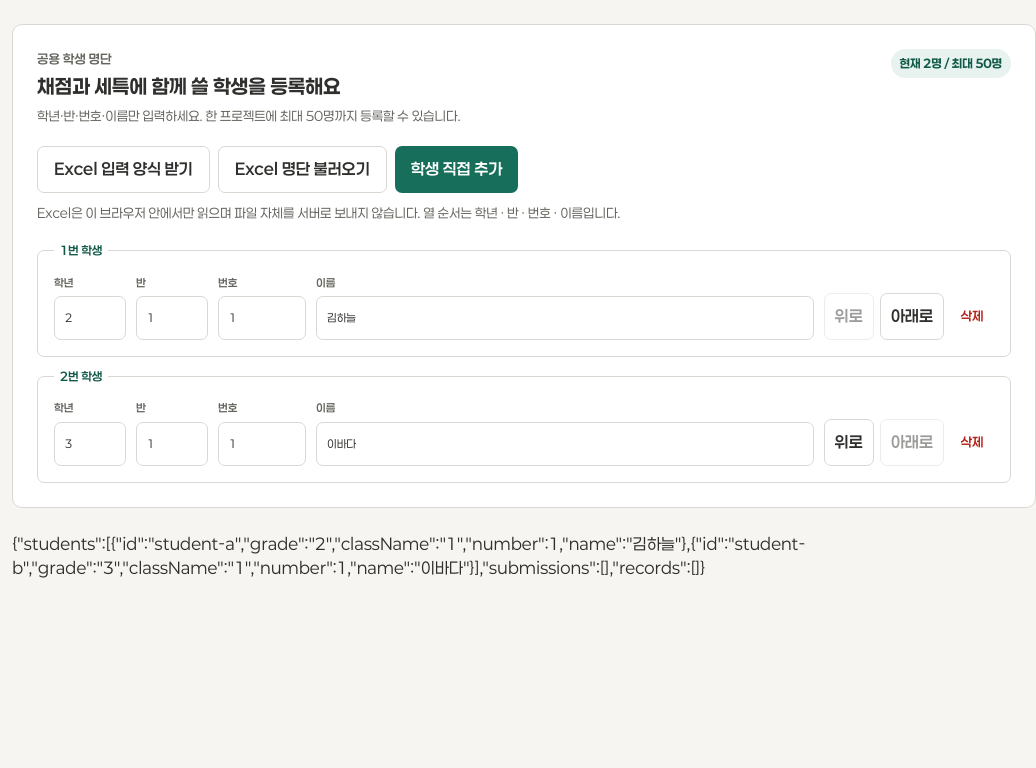
Given two valid students When a direct 학년 edit duplicates the academic key Then the project roster remains byte-for-byte unchanged
The width and height of the screenshot is (1036, 768).
Clear the 2nd field labelled "학년" at (90, 444), box [54,422,126,466]
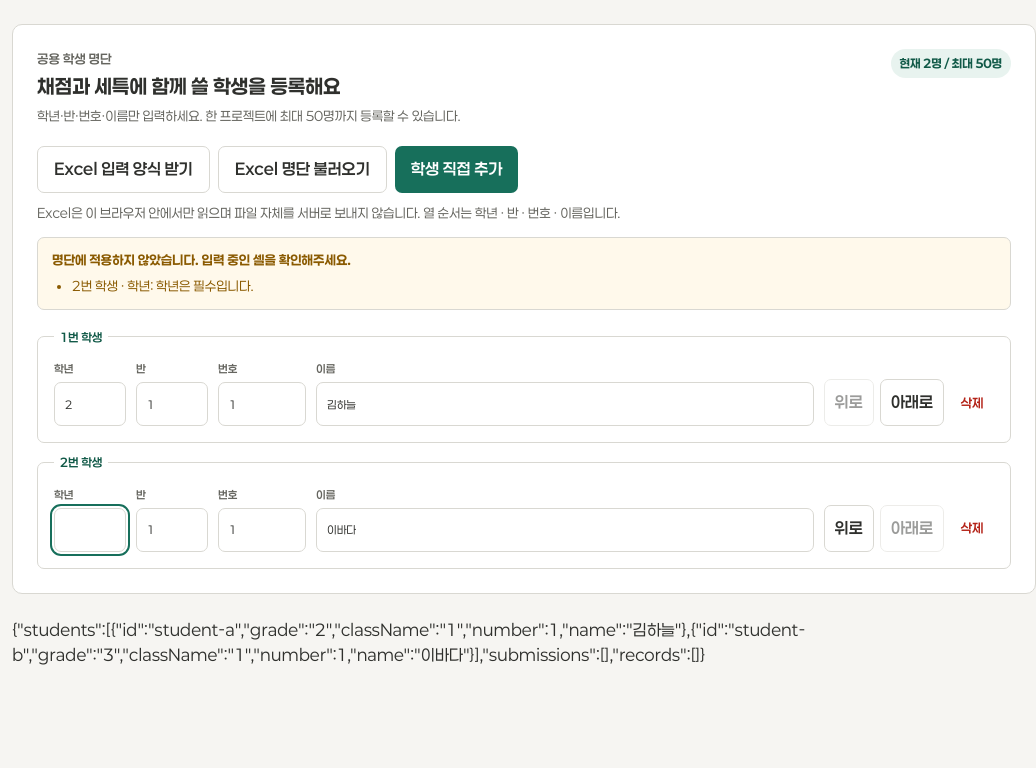
Type "2" into the 2nd field labelled "학년" at (90, 530), box [54,508,126,552]
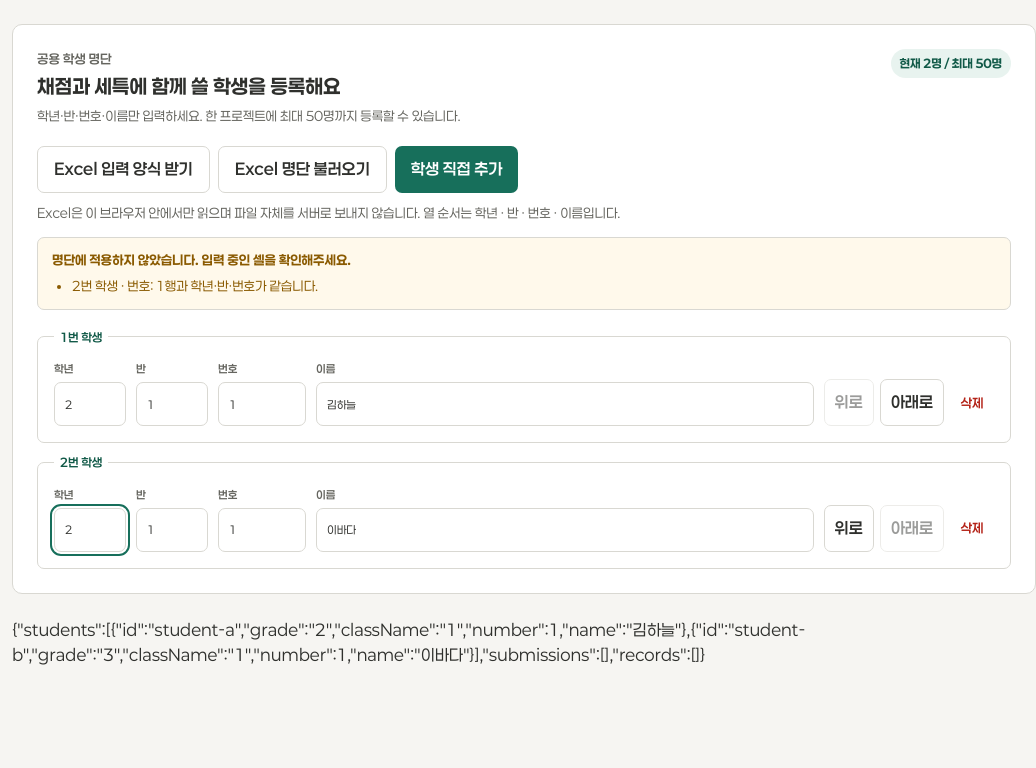
expect the text "명단에 적용하지 않았습니다. 입력 중인 셀을 확인해주세요." shows "2번 학생 · 번호": met, box [37,237,1011,310]
expect the text "명단에 적용하지 않았습니다. 입력 중인 셀을 확인해주세요." shows "1행과 학년·반·번호가 같습니다": met, box [156,278,318,294]
